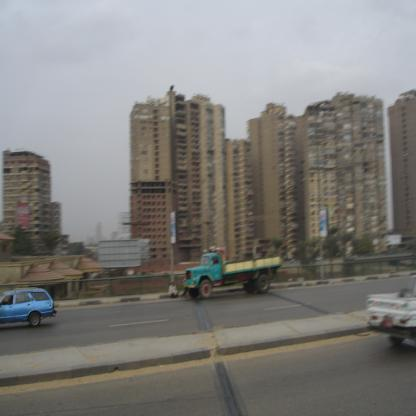Car: (363, 290, 416, 352), (0, 289, 58, 328)
Truck: (174, 252, 282, 304), (368, 271, 416, 344)
